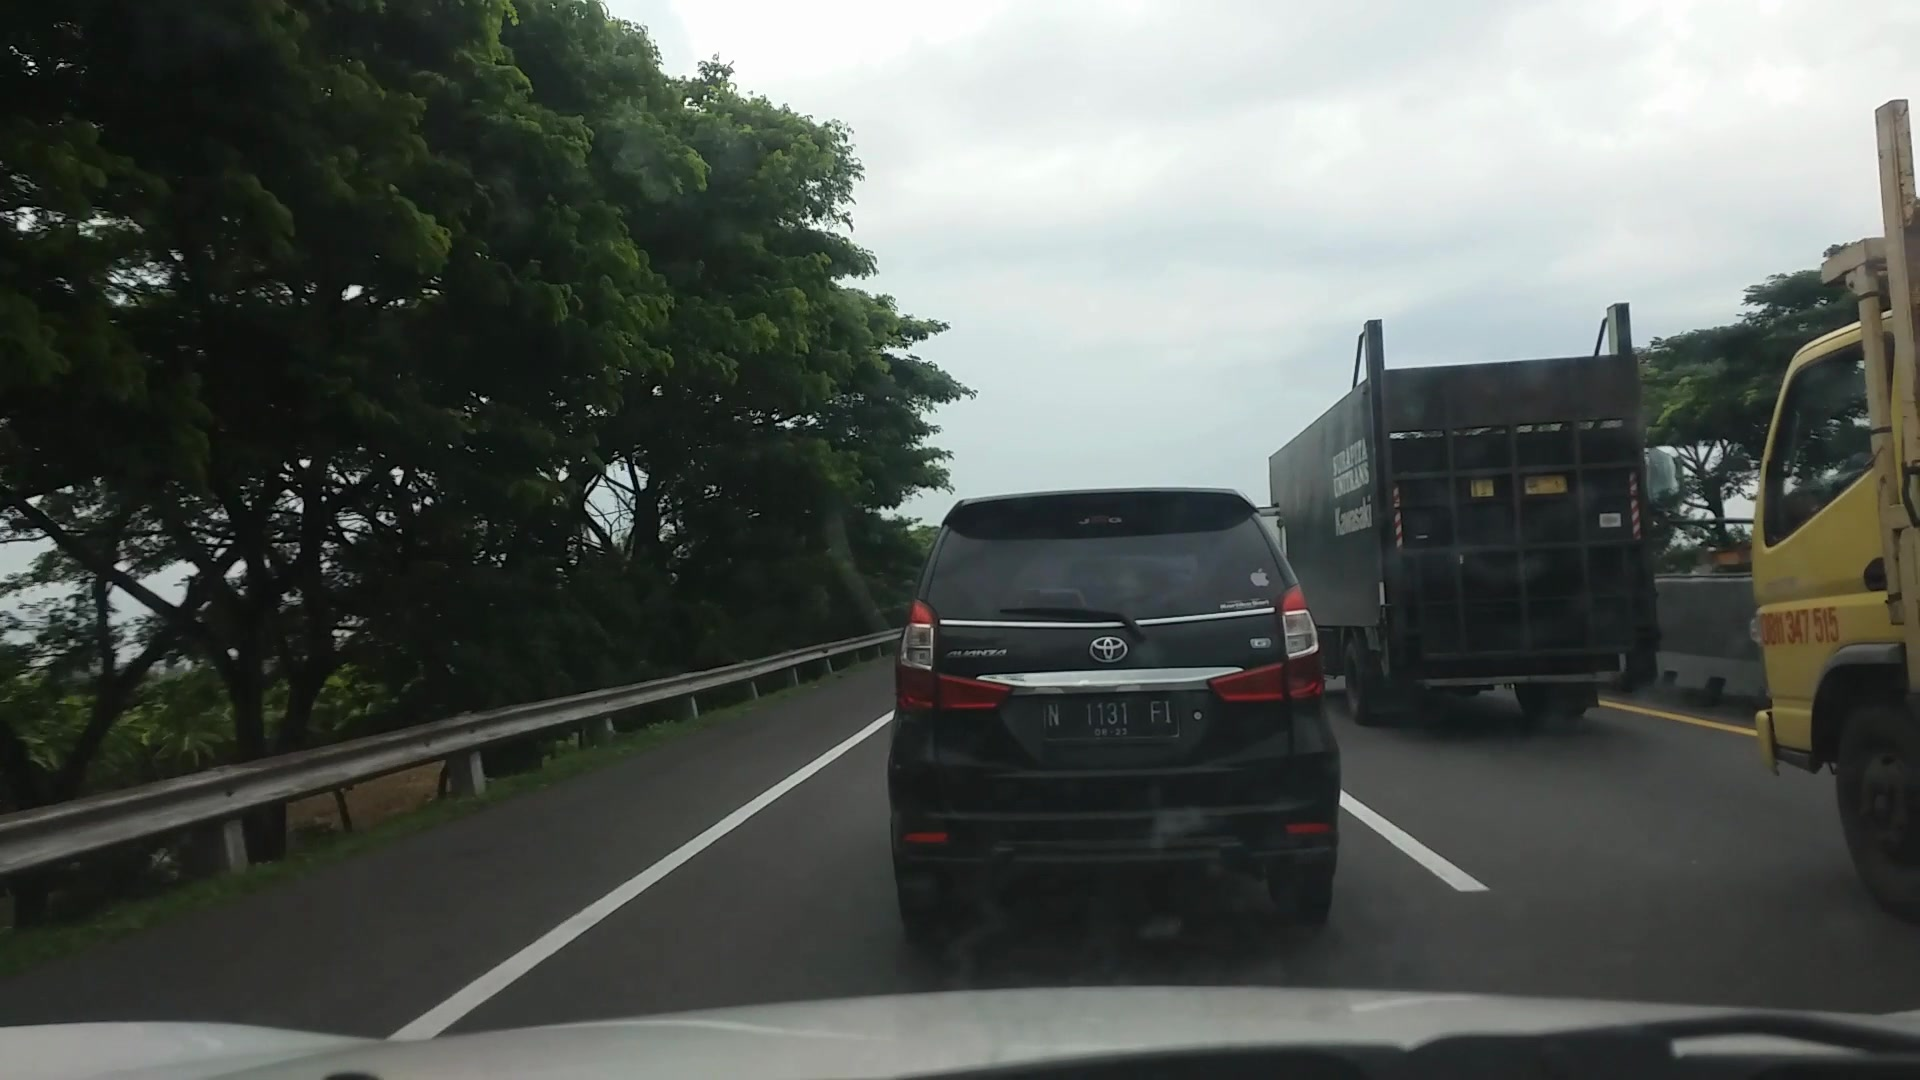plate_positive: (1044, 698, 1178, 738)
